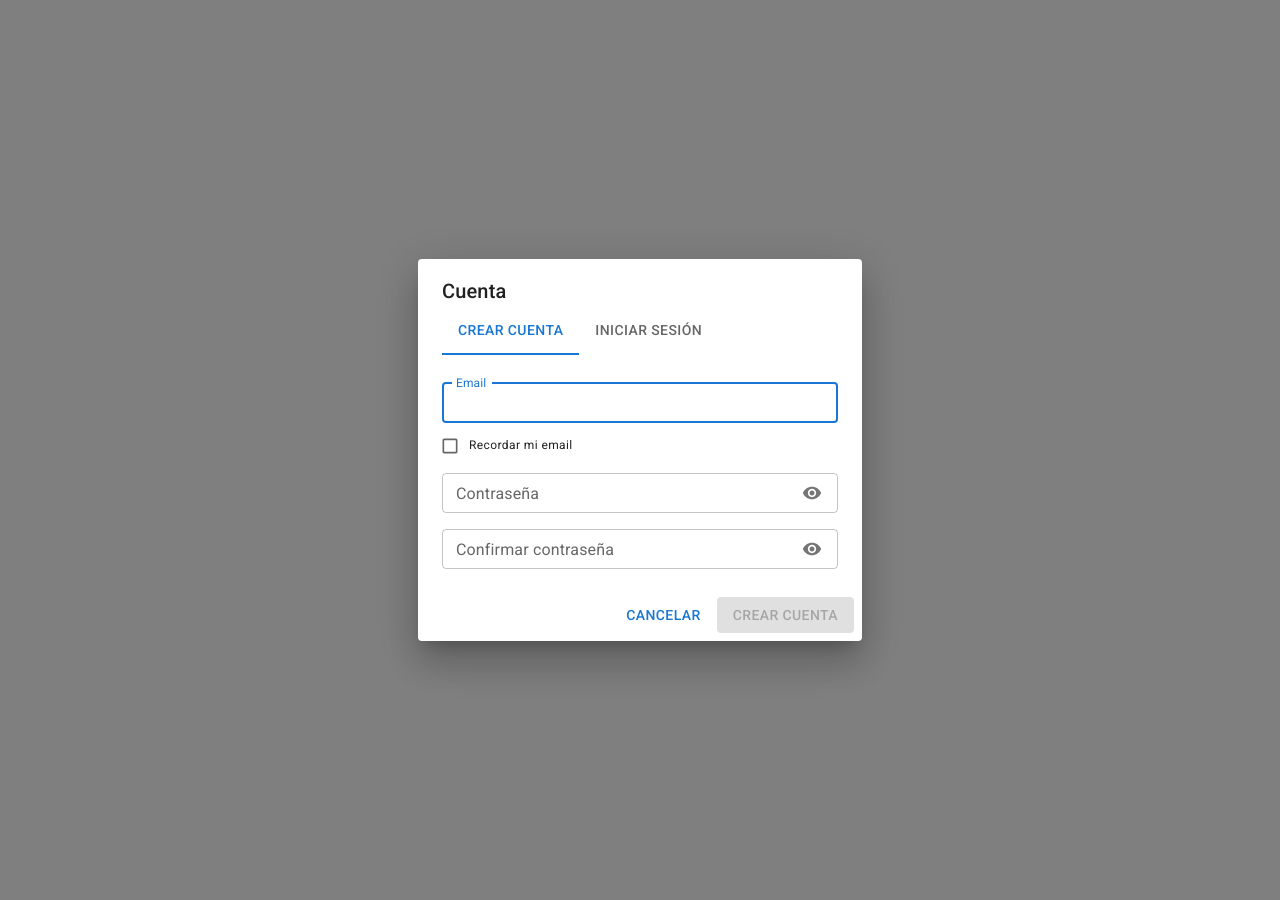
EmailPasswordDialog › validates email format
In the field labelled "Email": (640, 403) [442, 383, 838, 423], type "invalid"
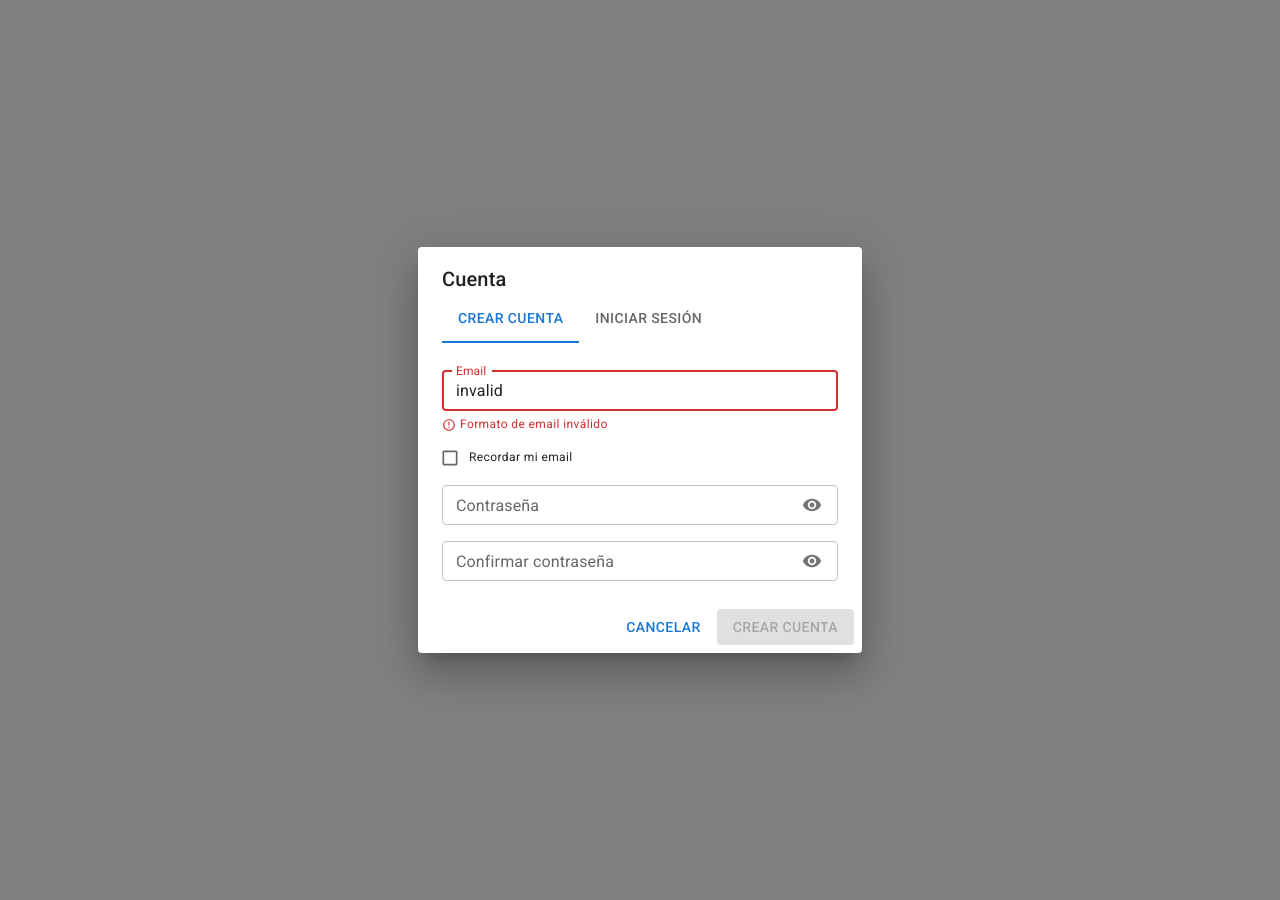
Result: the text "Formato de email inválido" is shown at [460, 415, 608, 435]
